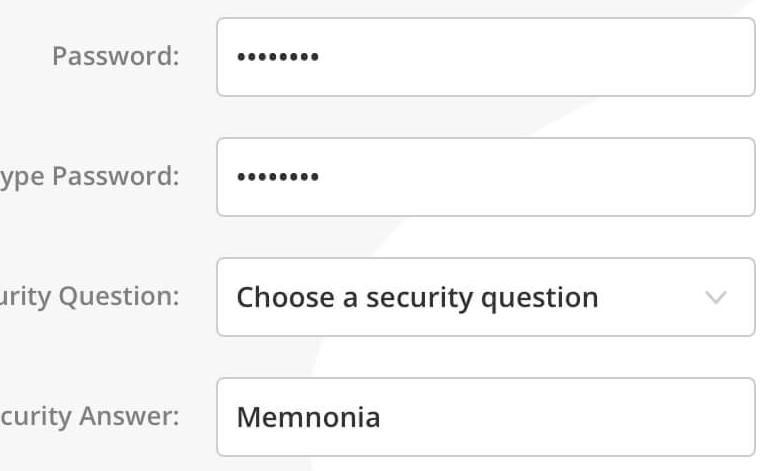field: (208, 374, 756, 457), (208, 15, 758, 97), (208, 134, 758, 215)
